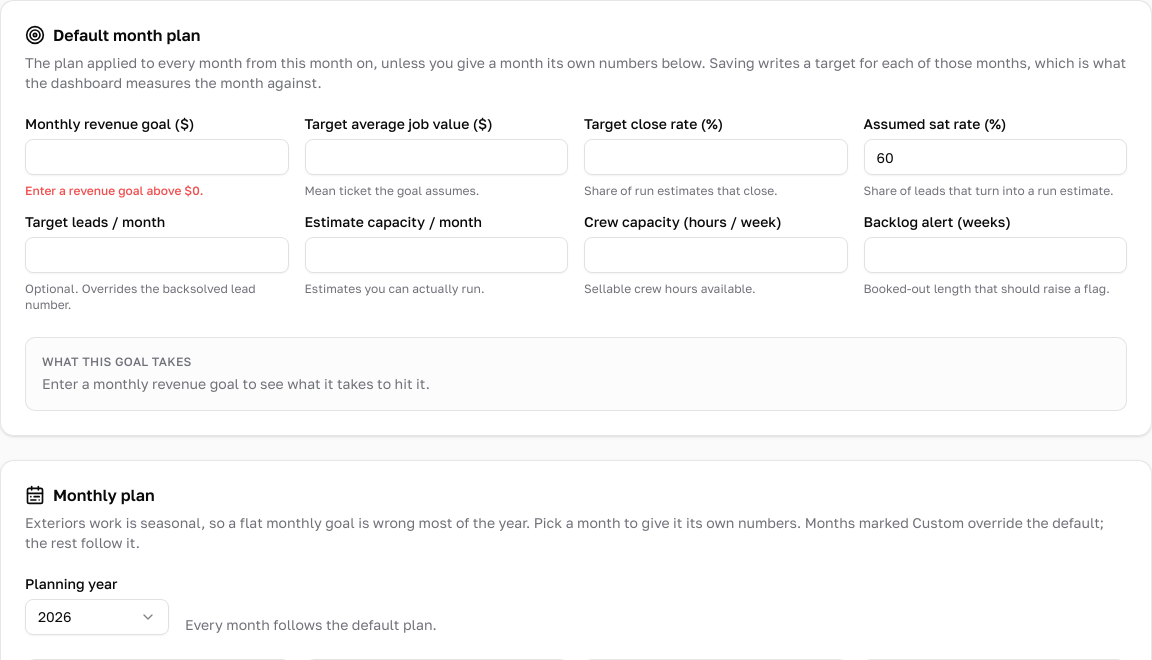
Scenario: SalesTargetsSettingsTab › disables save while the plan is invalid
In the number field labelled "Monthly revenue goal ($)": (157, 157) x1=25 y1=139 x2=288 y2=175, type "100000"
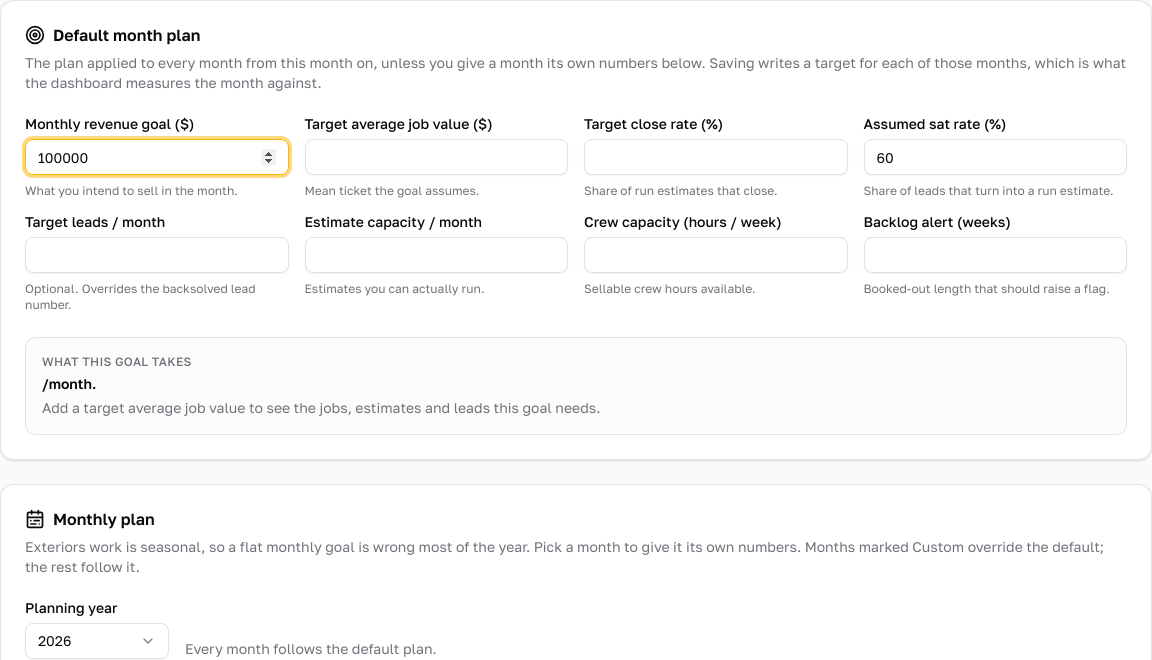
In the number field labelled "Target close rate (%)": (716, 157) x1=584 y1=139 x2=848 y2=175, type "150"
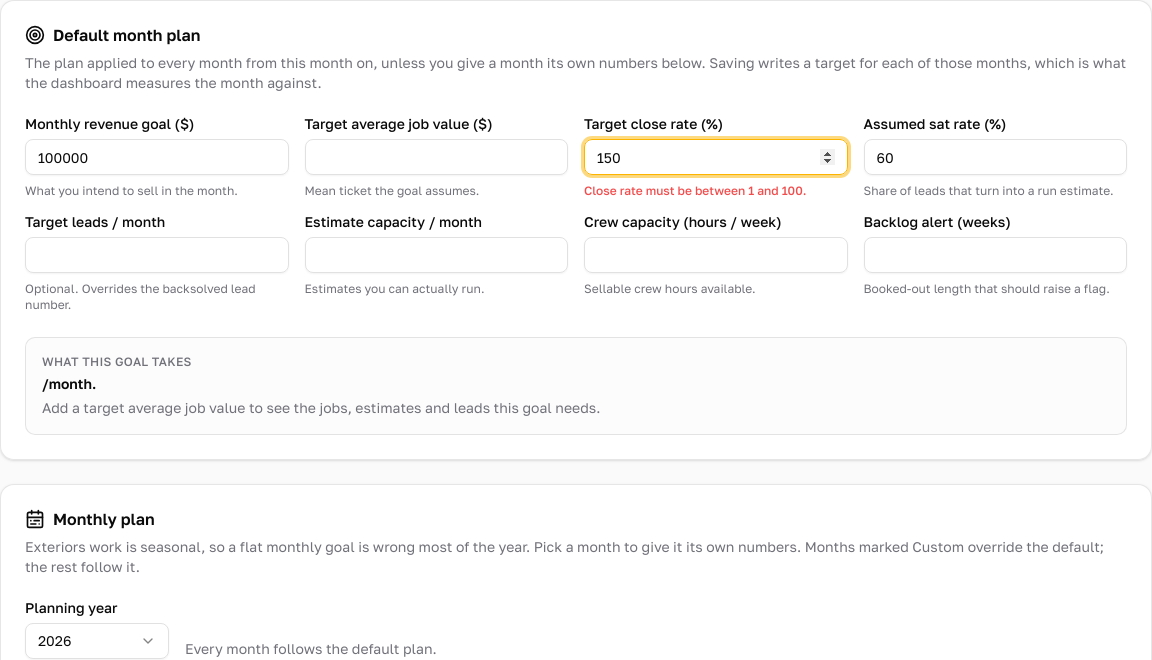
Now the text "Close rate must be between 1 and 100." is shown, box x1=584 y1=183 x2=806 y2=198
